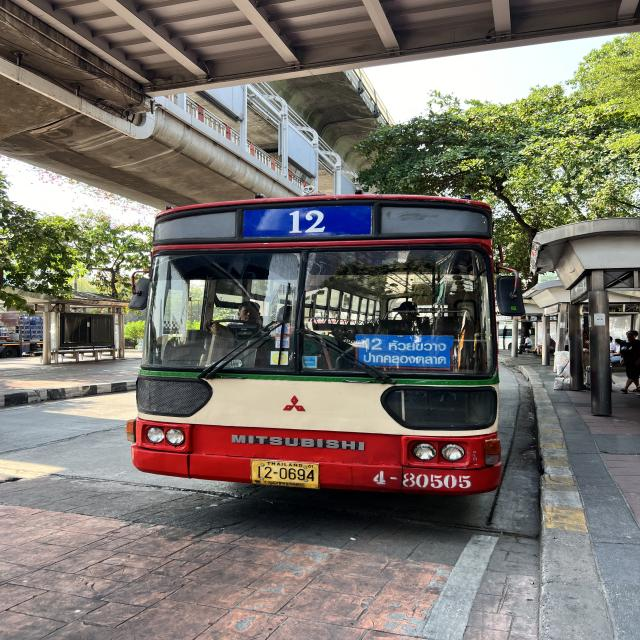BMTA-bus: (127, 193, 506, 499)
Bus-Line-Number: (241, 206, 379, 241)
Destination-Sign-Normal: (354, 335, 456, 374)
